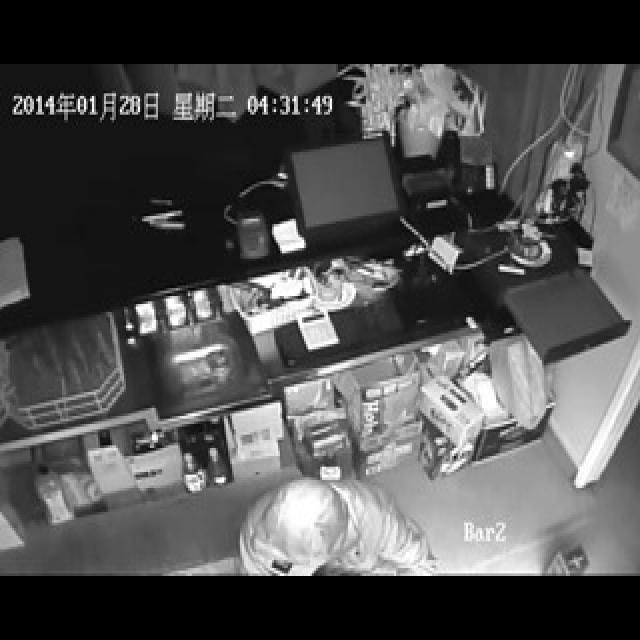thief: (227, 477, 452, 578)
